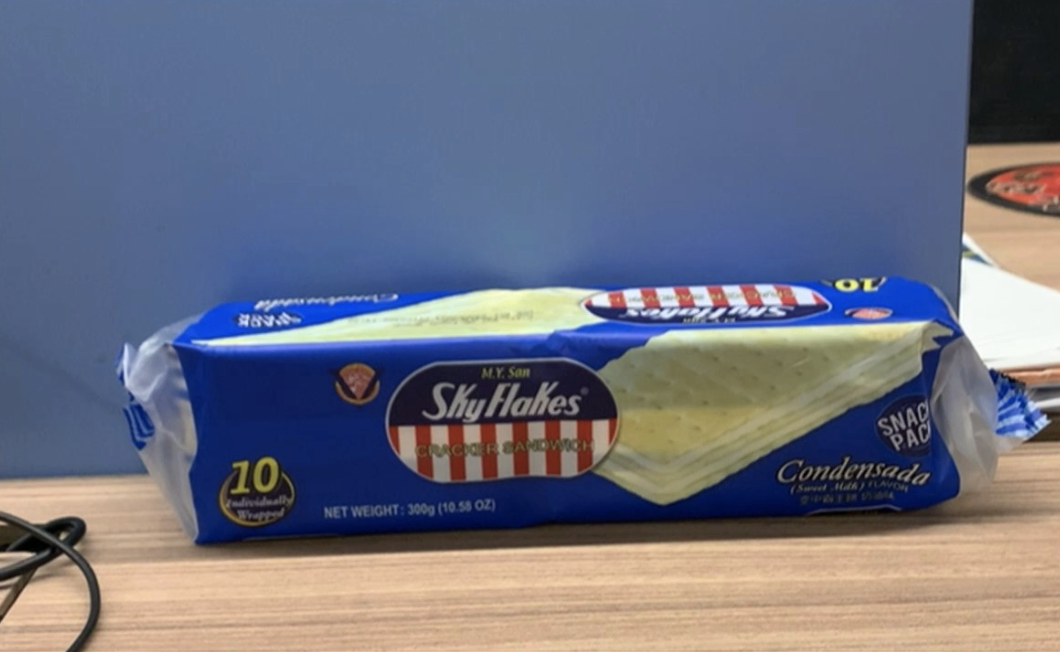crackers_450g: (211, 302, 948, 514)
